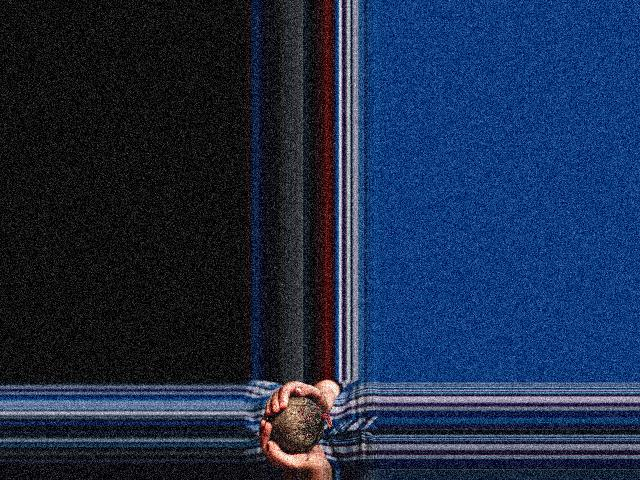beet: (270, 397, 333, 452)
